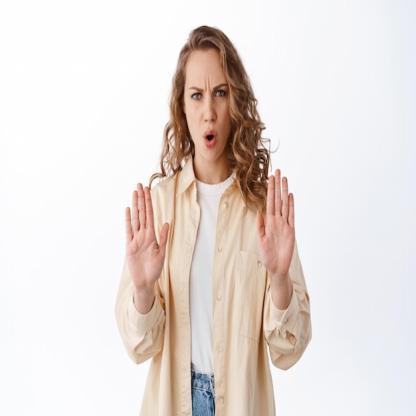stop: (121, 178, 170, 294), (254, 163, 297, 281)
